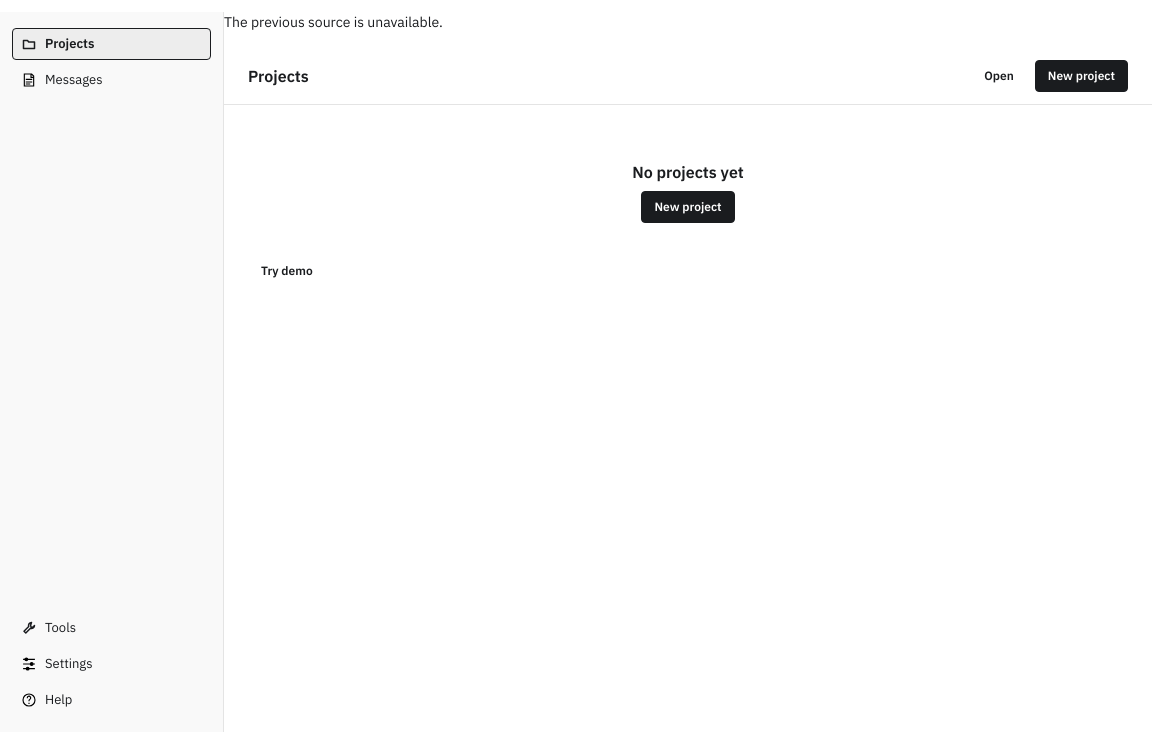
Test case: a refused navigation write explains restart limits without clearing the restoration notice
Expected: the navigation bar named "Main" is shown, 0,12 -> 224,731
Click the button "Open".
click(999, 76)  # box 971,60 -> 1027,92
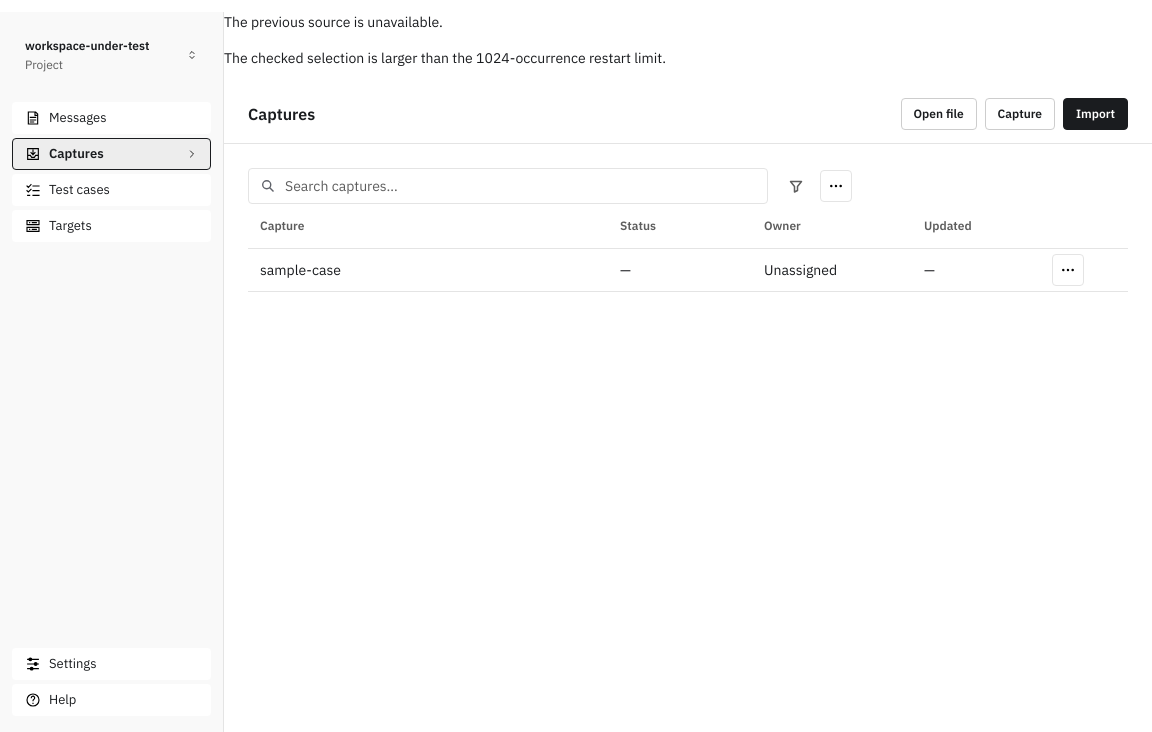
Expected: the text "The previous source is unavailable." is shown, 224,13 -> 443,31
Expected: the text "The checked selection is larger than the 1024-occurrence restart limit." is shown, 224,49 -> 666,67
